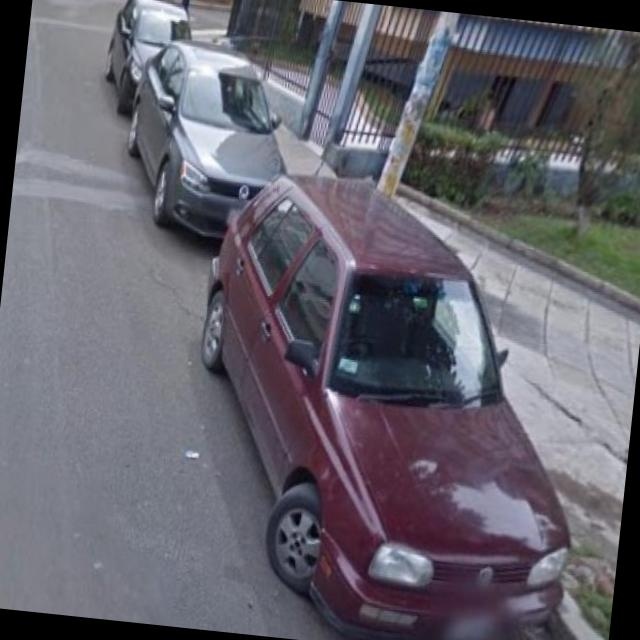car: (161, 169, 602, 640), (145, 7, 300, 196)
